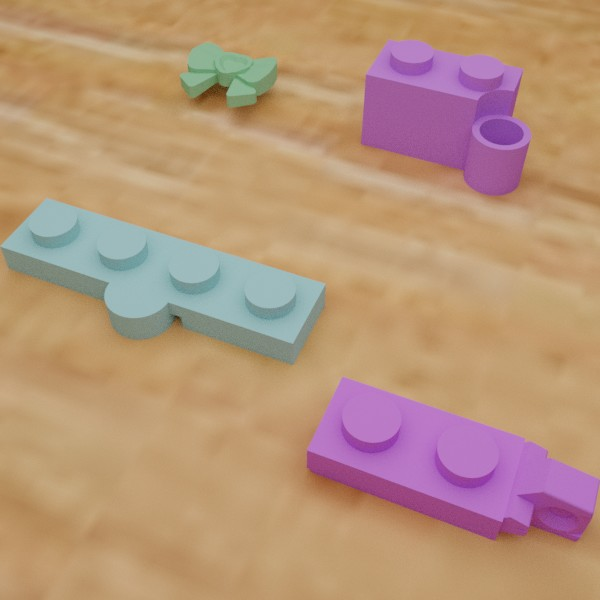11618: (179, 42, 277, 107)
2429c01: (0, 198, 325, 365)
3831: (360, 39, 531, 195)
44301: (306, 376, 600, 541)
